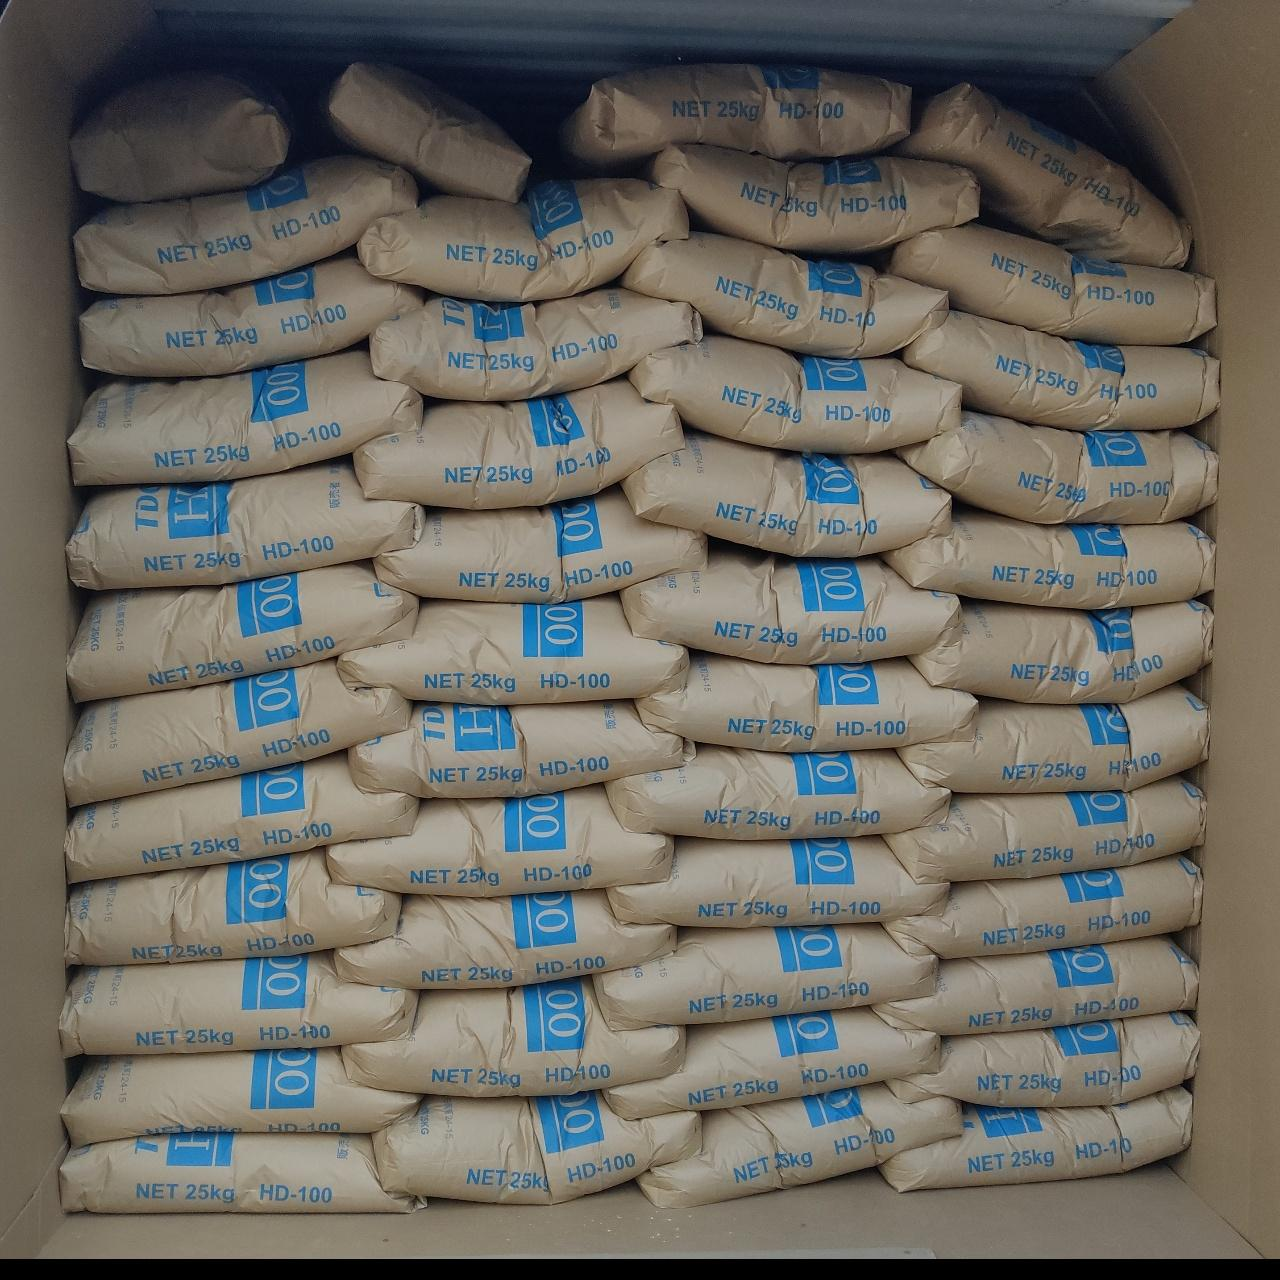sack: (893, 83, 1190, 267), (64, 660, 409, 804), (67, 561, 418, 700), (67, 349, 422, 485), (74, 156, 417, 293), (68, 456, 423, 587), (64, 753, 416, 881), (354, 377, 682, 508), (81, 256, 425, 376), (619, 232, 948, 358), (619, 542, 958, 662), (358, 179, 689, 302), (621, 433, 949, 556), (639, 1083, 961, 1207), (343, 978, 685, 1095), (888, 223, 1216, 343), (376, 486, 708, 602), (59, 951, 418, 1057), (629, 336, 960, 452), (67, 850, 400, 965), (327, 785, 673, 896), (339, 595, 688, 704), (611, 1006, 940, 1119), (370, 287, 702, 400), (904, 309, 1218, 428), (373, 1092, 701, 1204), (594, 924, 937, 1030), (651, 144, 978, 253), (61, 1047, 418, 1146), (897, 411, 1217, 522), (561, 66, 911, 166), (636, 652, 978, 753), (885, 776, 1205, 881), (341, 888, 676, 988), (899, 685, 1208, 792), (888, 506, 1214, 608), (881, 1085, 1192, 1191), (359, 700, 694, 797), (884, 856, 1201, 958), (605, 745, 949, 839), (874, 937, 1198, 1035), (910, 600, 1212, 702), (607, 838, 947, 927), (886, 1012, 1198, 1108), (60, 1131, 423, 1213), (72, 72, 291, 202), (329, 63, 530, 200)
